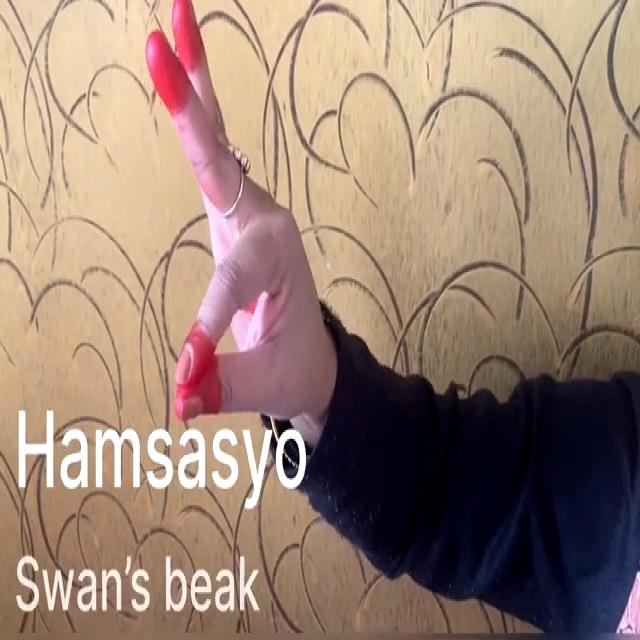Hamsasya: (126, 0, 336, 427)
text: (8, 399, 316, 511), (10, 527, 269, 637)
